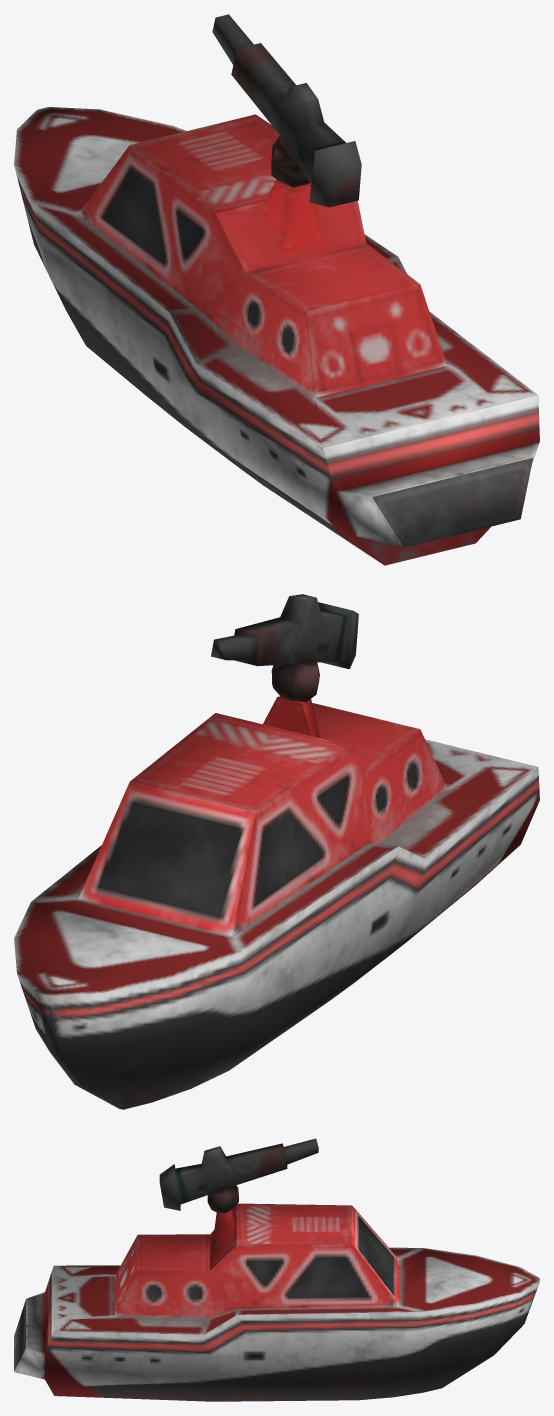
File: onedeck_lp_lod.fbx
3 views of the same model, one above another, from view 1: azimuth 30°, elevation 25°; view 2: azimuth 150°, elevation 25°; view 3: azimuth 270°, elevation 25° (orthographic). The views are drawn at different scales.
Parts seen in each view (by area): view 1: onedeck_LOD0, onedeck_gun_LOD0; view 2: onedeck_LOD0, onedeck_gun_LOD0; view 3: onedeck_LOD0, onedeck_gun_LOD0.
Boxes of the visible parts, x1,y1,x2,y2 form: onedeck_LOD0: [14, 107, 539, 565]; onedeck_gun_LOD0: [212, 14, 361, 207]; onedeck_LOD0: [14, 696, 539, 1109]; onedeck_gun_LOD0: [211, 594, 358, 702]; onedeck_LOD0: [14, 1203, 539, 1401]; onedeck_gun_LOD0: [159, 1138, 318, 1212].
Size of what is drawn, in the model's own units: 12.59 by 20.74 by 39.98.
